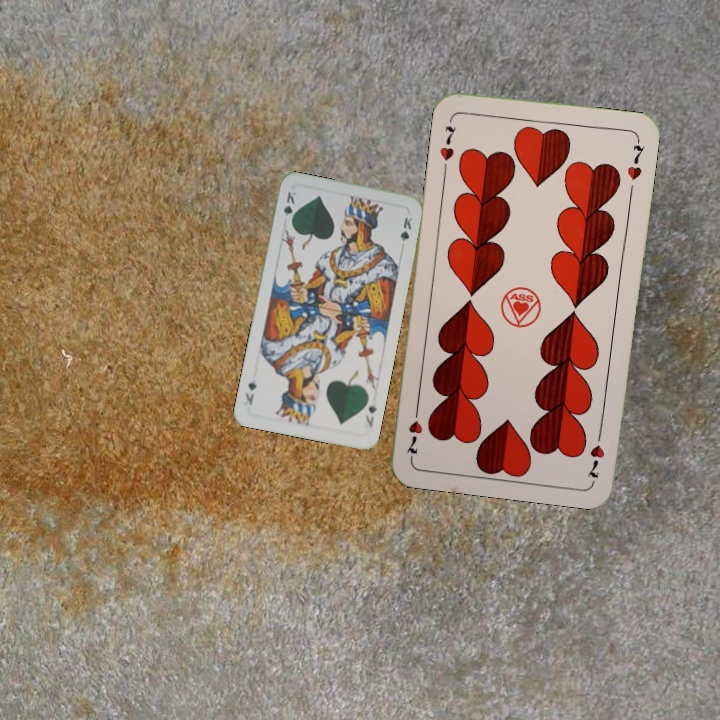GK: (279, 187, 298, 227), (362, 398, 379, 430)
H7: (583, 424, 607, 481), (436, 122, 459, 163)
